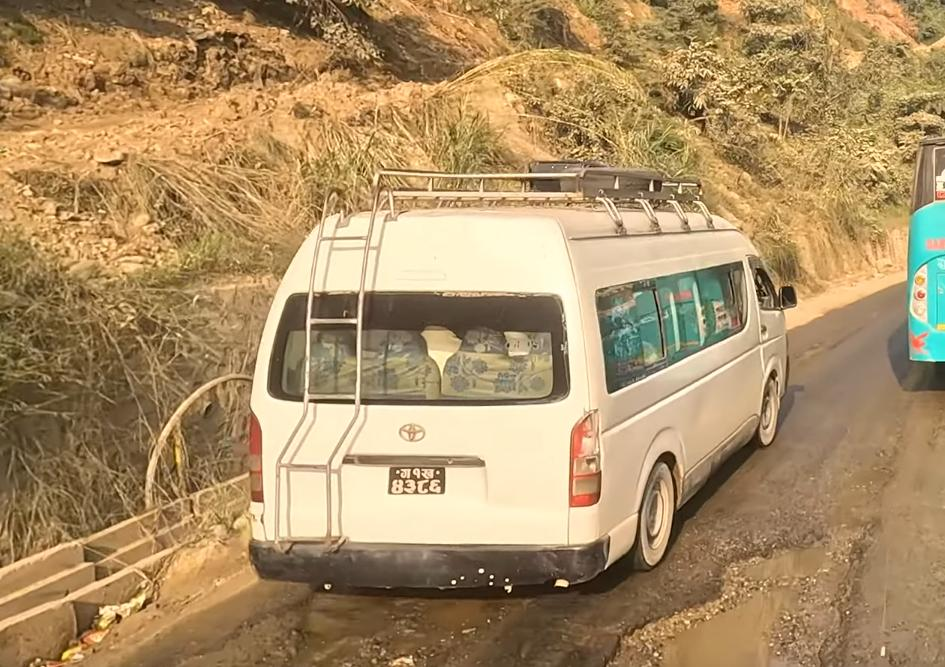bus: (906, 132, 945, 392)
micro_bus: (240, 156, 798, 613)
